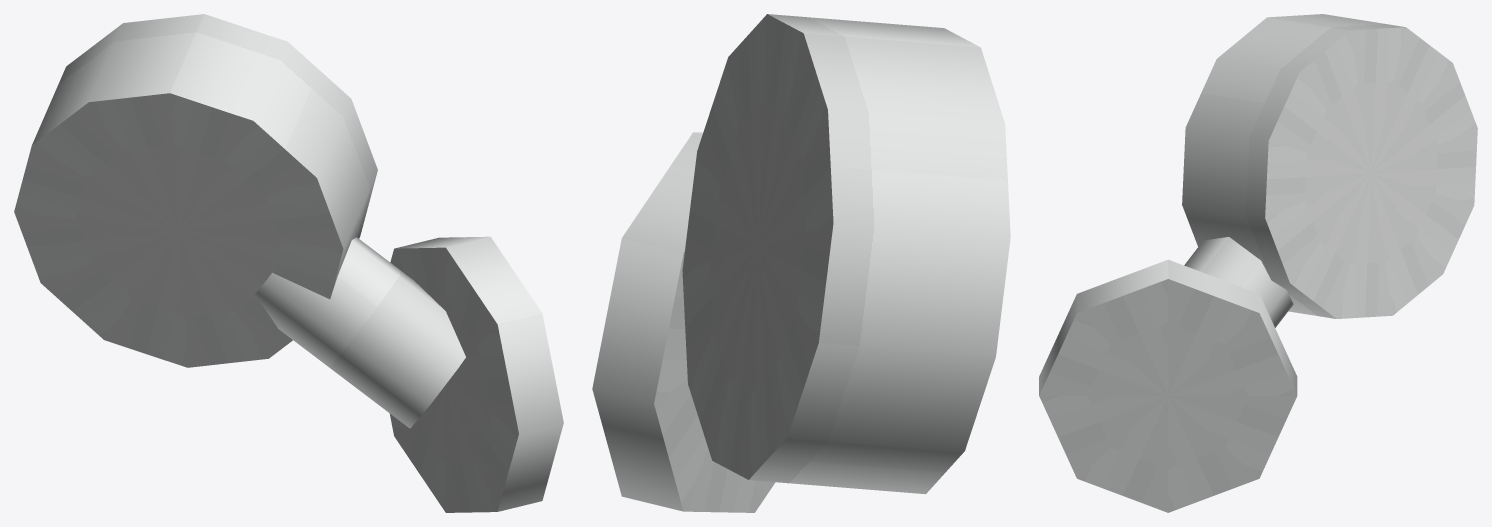
Rendered from nycsignalarm_stub_197.obj.
The picture shows the model from 3 angles, left to right: view 1: azimuth 30°, elevation 25°; view 2: azimuth 150°, elevation 25°; view 3: azimuth 270°, elevation 25°; orthographic projection. The views are drawn at different scales.
Visible parts, largest first — view 1: nycsignalarm_stub_197; view 2: nycsignalarm_stub_197; view 3: nycsignalarm_stub_197.
Boxes of the visible parts, box(x1,y1,x2,y2) form: nycsignalarm_stub_197: box(14, 14, 563, 512); nycsignalarm_stub_197: box(592, 14, 1010, 512); nycsignalarm_stub_197: box(1039, 14, 1477, 512).
Size of the model in its own units: 0.4807 by 0.6033 by 0.5945.
